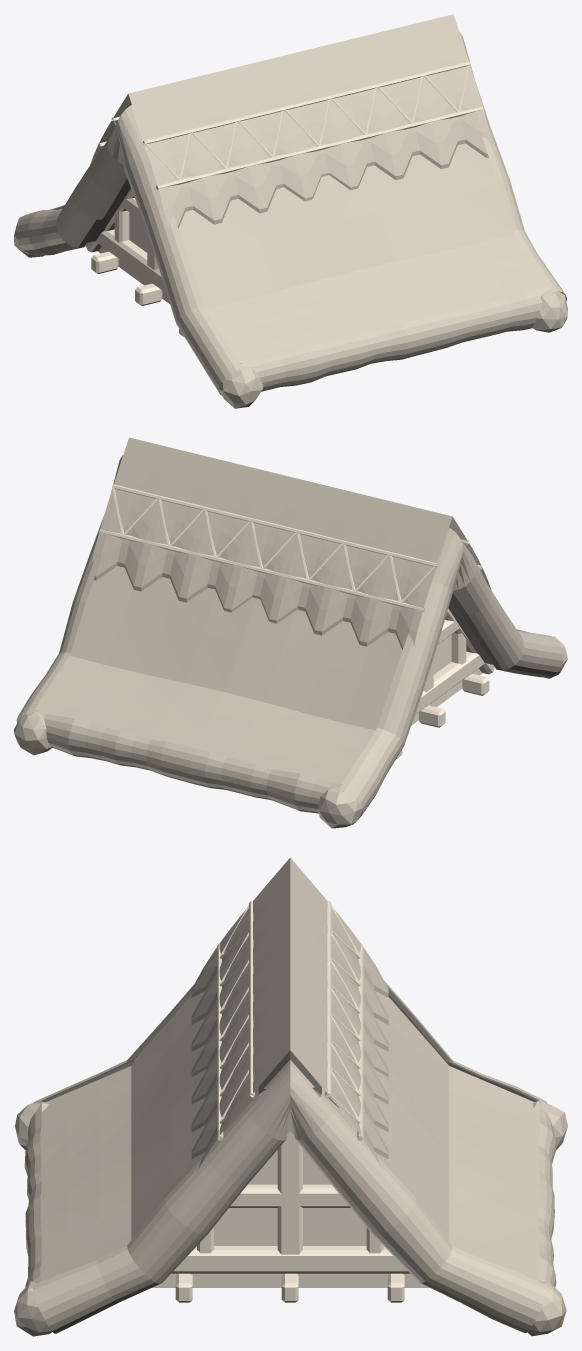
Rendered from SM_VK_RoofThatchS_Single.fbx.
3 renders of one model, top to bottom at view 1: azimuth 30°, elevation 25°; view 2: azimuth 150°, elevation 25°; view 3: azimuth 270°, elevation 25°, orthographic. The views are drawn at different scales.
Visible parts, largest first — view 1: SM_VK_RoofThatchS_Single.001; view 2: SM_VK_RoofThatchS_Single.001; view 3: SM_VK_RoofThatchS_Single.001.
Boxes of the visible parts, box(x1,y1,x2,y2) form: SM_VK_RoofThatchS_Single.001: box(14, 14, 567, 408); SM_VK_RoofThatchS_Single.001: box(14, 437, 567, 828); SM_VK_RoofThatchS_Single.001: box(14, 857, 567, 1336).
Size of the model in its own units: 4.62 by 3.03 by 5.23.
